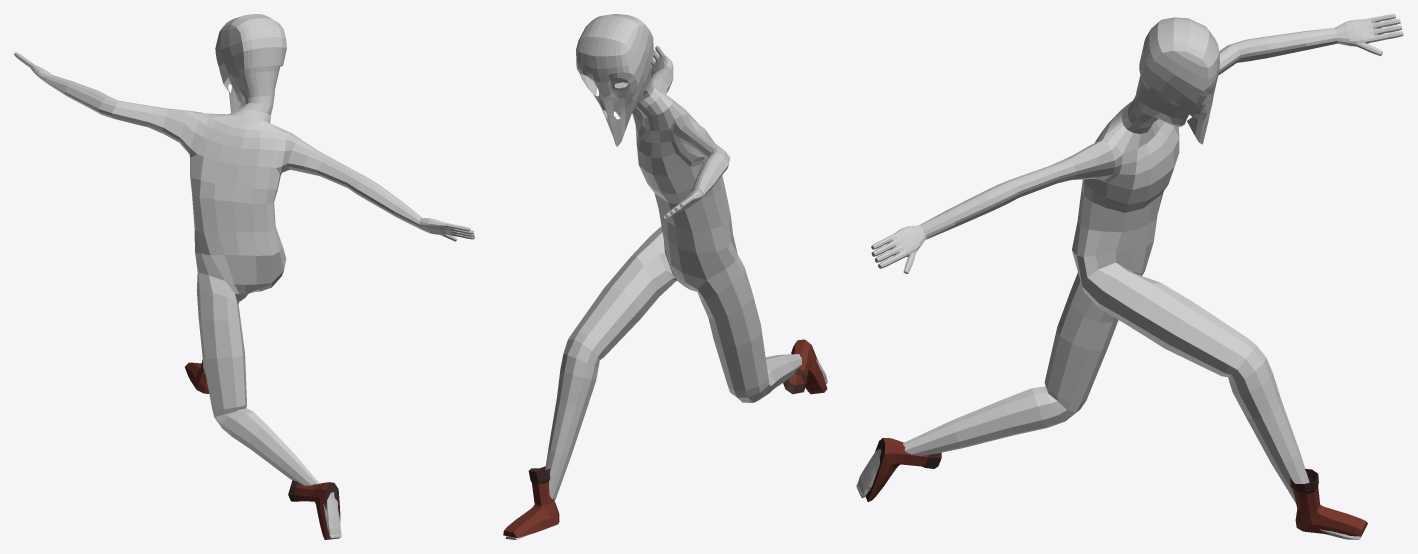
File: saltoadelante_000115.obj
The picture shows the model from 3 angles, left to right: view 1: azimuth 30°, elevation 25°; view 2: azimuth 150°, elevation 25°; view 3: azimuth 270°, elevation 25°; orthographic projection. The views are drawn at different scales.
Parts seen in each view (by area): view 1: Plane.002_Plane.001, Plane.004; view 2: Plane.002_Plane.001, Plane.003, Plane.004; view 3: Plane.002_Plane.001, Plane.003, Plane.004.
Boxes of the visible parts, x1,y1,x2,y2 form: Plane.002_Plane.001: (14, 14, 474, 538); Plane.004: (288, 480, 340, 539); Plane.002_Plane.001: (505, 14, 827, 539); Plane.003: (503, 466, 559, 537); Plane.004: (783, 339, 827, 394); Plane.002_Plane.001: (856, 14, 1403, 539); Plane.003: (1290, 468, 1367, 536); Plane.004: (865, 437, 941, 501).
Bounding box in the file's own units: 3.63 × 5.84 × 5.73.
